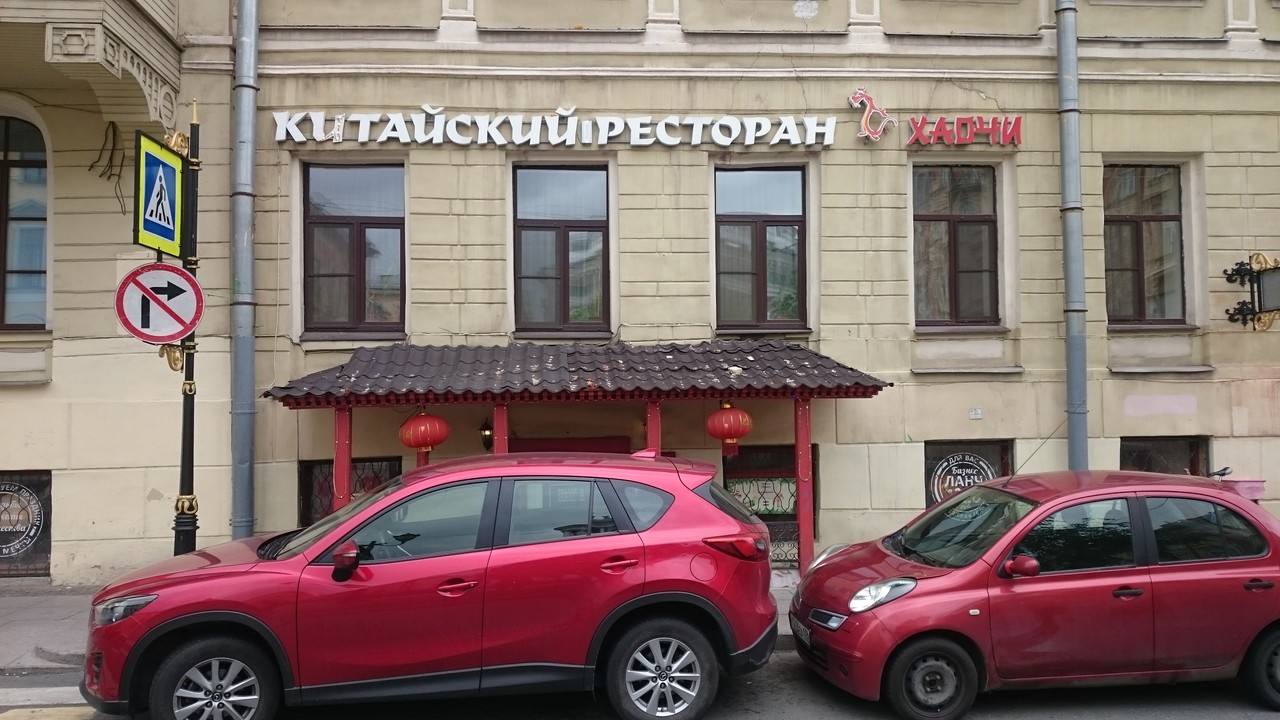signboard: (270, 88, 1025, 153)
window: (305, 166, 405, 332), (514, 168, 609, 338), (716, 163, 806, 323), (914, 163, 997, 327), (1104, 163, 1185, 325)
